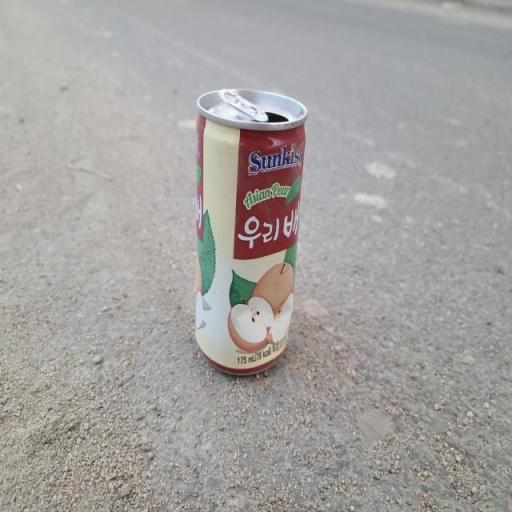metal: (184, 74, 318, 388)
